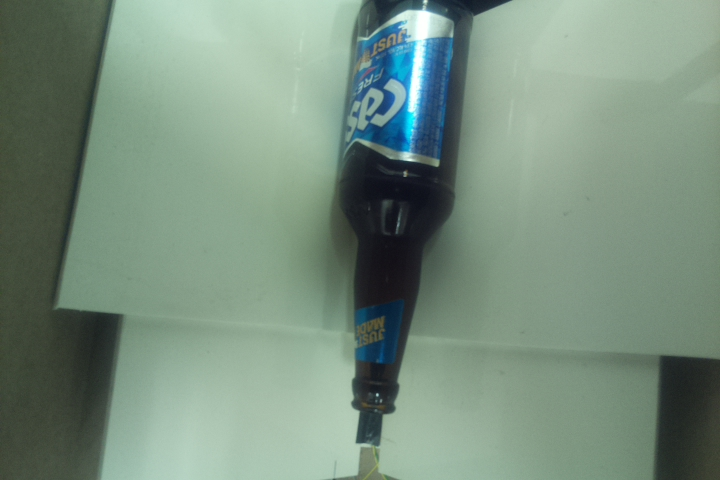makju: (336, 1, 476, 415)
